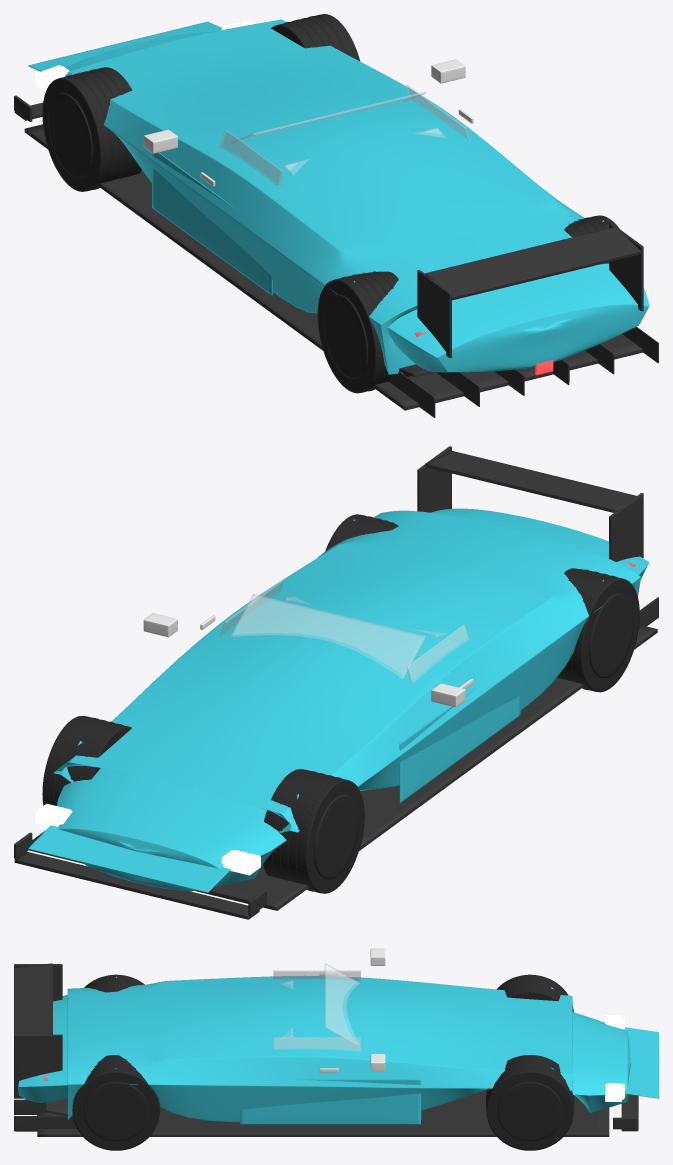
File: Car_FIA_F1_2026_Spec_future_Complete.glb
The picture shows the model from 3 angles, top to bottom: view 1: azimuth 30°, elevation 25°; view 2: azimuth 150°, elevation 25°; view 3: azimuth 270°, elevation 25°; orthographic projection. The views are drawn at different scales.
Parts seen in each view (by area): view 1: BODY_MainShell, UNDERBODY_FlatFloor, AERO_2026_ActiveRearWing, WHEEL_FL_Tire, WHEEL_RL_Tire, BODY_Door_FL, GLASS_Greenhouse, WHEEL_FR_Tire, JEWELRY_Hardware, BODY_Hood, WHEEL_RR_Tire, LIGHTING_Headlamps; view 2: BODY_MainShell, WHEEL_FL_Tire, GLASS_Greenhouse, UNDERBODY_FlatFloor, AERO_2026_ActiveRearWing, WHEEL_RL_Tire, BODY_Hood, BODY_Door_FL, AERO_FrontSplitter, WHEEL_FR_Tire, JEWELRY_Hardware, LIGHTING_Headlamps (+1 smaller); view 3: BODY_MainShell, UNDERBODY_FlatFloor, WHEEL_FR_Tire, WHEEL_RR_Tire, AERO_2026_ActiveRearWing, BODY_Door_FR, GLASS_Greenhouse, BODY_Hood, WHEEL_FL_Tire, JEWELRY_Hardware, AERO_FrontSplitter, WHEEL_RL_Tire (+1 smaller).
Part boxes in pixels (x1,y1,x2,y2): BODY_MainShell: [64, 18, 649, 374]; UNDERBODY_FlatFloor: [24, 124, 658, 417]; AERO_2026_ActiveRearWing: [417, 223, 643, 357]; WHEEL_FL_Tire: [42, 67, 141, 191]; WHEEL_RL_Tire: [317, 271, 410, 393]; BODY_Door_FL: [152, 152, 272, 295]; GLASS_Greenhouse: [219, 85, 469, 186]; WHEEL_FR_Tire: [271, 14, 360, 61]; JEWELRY_Hardware: [143, 59, 473, 186]; BODY_Hood: [28, 21, 221, 71]; WHEEL_RR_Tire: [564, 215, 619, 236]; LIGHTING_Headlamps: [35, 20, 253, 91]; BODY_MainShell: [53, 508, 649, 891]; WHEEL_FL_Tire: [263, 769, 364, 893]; GLASS_Greenhouse: [219, 579, 469, 683]; UNDERBODY_FlatFloor: [29, 597, 658, 910]; AERO_2026_ActiveRearWing: [417, 446, 643, 561]; WHEEL_RL_Tire: [557, 568, 639, 692]; BODY_Hood: [28, 825, 230, 892]; BODY_Door_FL: [399, 680, 520, 803]; AERO_FrontSplitter: [14, 832, 266, 919]; WHEEL_FR_Tire: [42, 716, 131, 805]; JEWELRY_Hardware: [143, 613, 473, 707]; LIGHTING_Headlamps: [35, 803, 260, 875]; BODY_MainShell: [18, 975, 631, 1121]; UNDERBODY_FlatFloor: [14, 1083, 609, 1136]; WHEEL_FR_Tire: [486, 1055, 574, 1150]; WHEEL_RR_Tire: [72, 1055, 160, 1150]; AERO_2026_ActiveRearWing: [14, 963, 62, 1083]; BODY_Door_FR: [240, 1079, 421, 1124]; GLASS_Greenhouse: [273, 963, 360, 1051]; BODY_Hood: [624, 1027, 658, 1098]; WHEEL_FL_Tire: [496, 974, 573, 1012]; JEWELRY_Hardware: [319, 948, 385, 1072]; AERO_FrontSplitter: [613, 1094, 638, 1131]; WHEEL_RL_Tire: [84, 974, 144, 992].
Size of what is drawn, in the model's own units: 2.23 by 0.9775 by 5.3.
